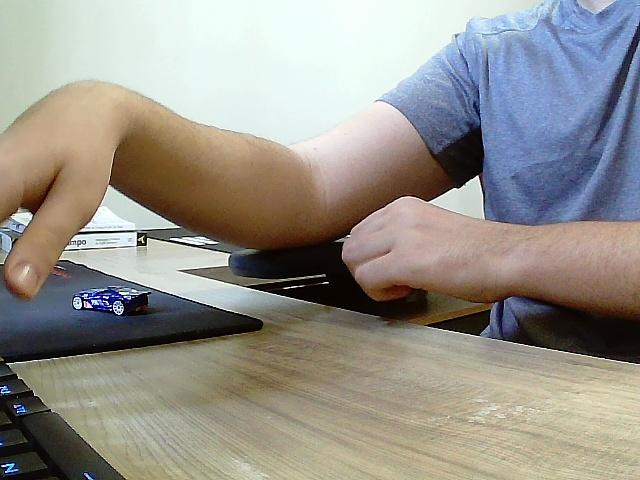Carro: (73, 289, 150, 316)
